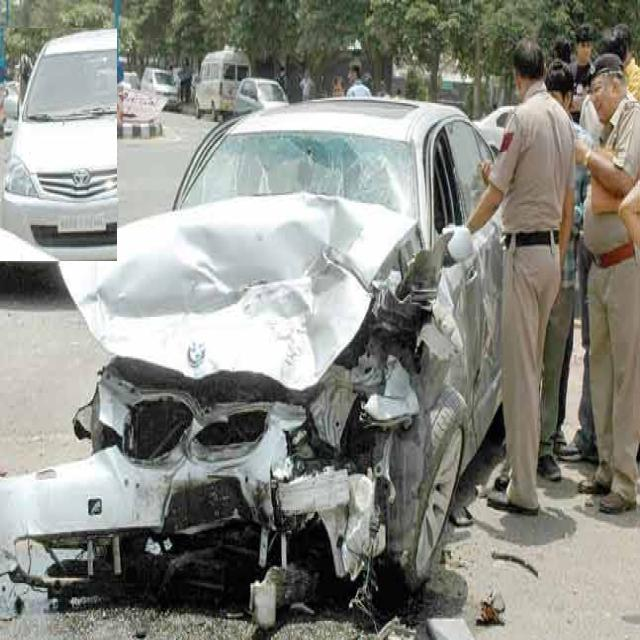accident: (0, 98, 504, 600)
car: (0, 28, 117, 261)
